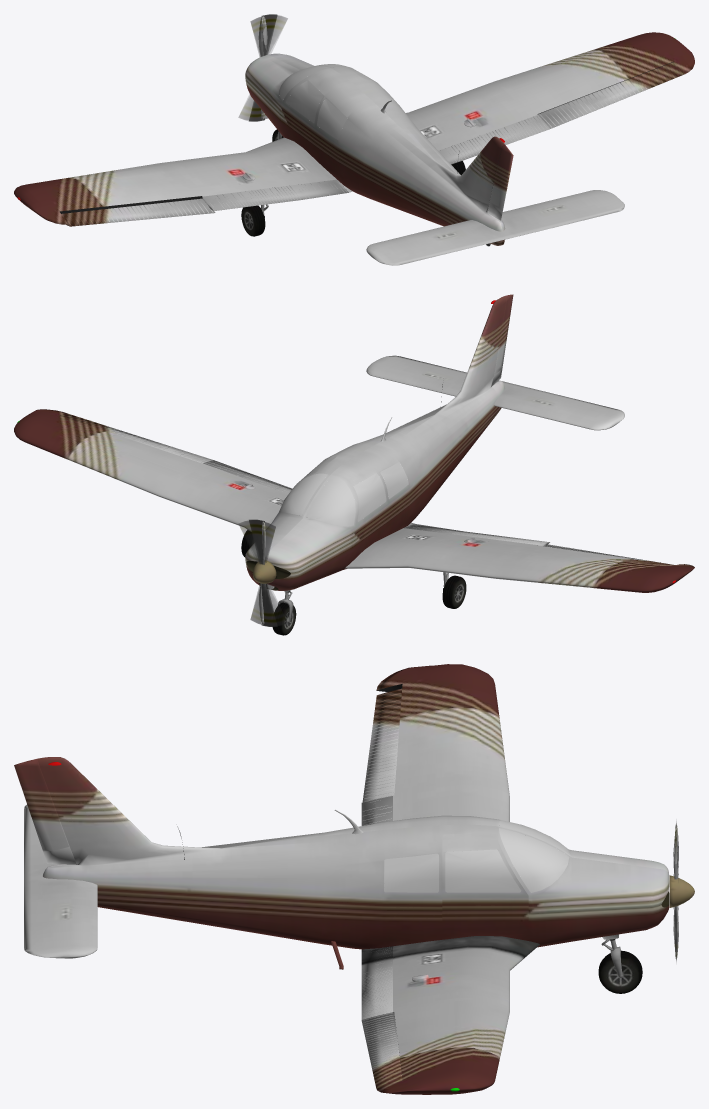
3 renders of one model, top to bottom at view 1: azimuth 30°, elevation 25°; view 2: azimuth 150°, elevation 25°; view 3: azimuth 270°, elevation 25°, orthographic. The views are drawn at different scales.
Visible parts, largest first — view 1: aileronD, vitreporteG, propblur; view 2: aileronD, vitreporteG, propblur; view 3: aileronD, vitreporteG.
Part boxes in pixels (box(x1,y1,x2,y2)): aileronD: box(14, 16, 694, 265); vitreporteG: box(279, 64, 347, 139); propblur: box(238, 14, 287, 121); aileronD: box(14, 294, 694, 635); vitreporteG: box(279, 462, 408, 526); propblur: box(238, 519, 287, 626); aileronD: box(14, 664, 694, 1094); vitreporteG: box(384, 820, 569, 892).
Size of the model in its own units: 10.55 by 2.73 by 7.15.
5 materials, 2 textured.
